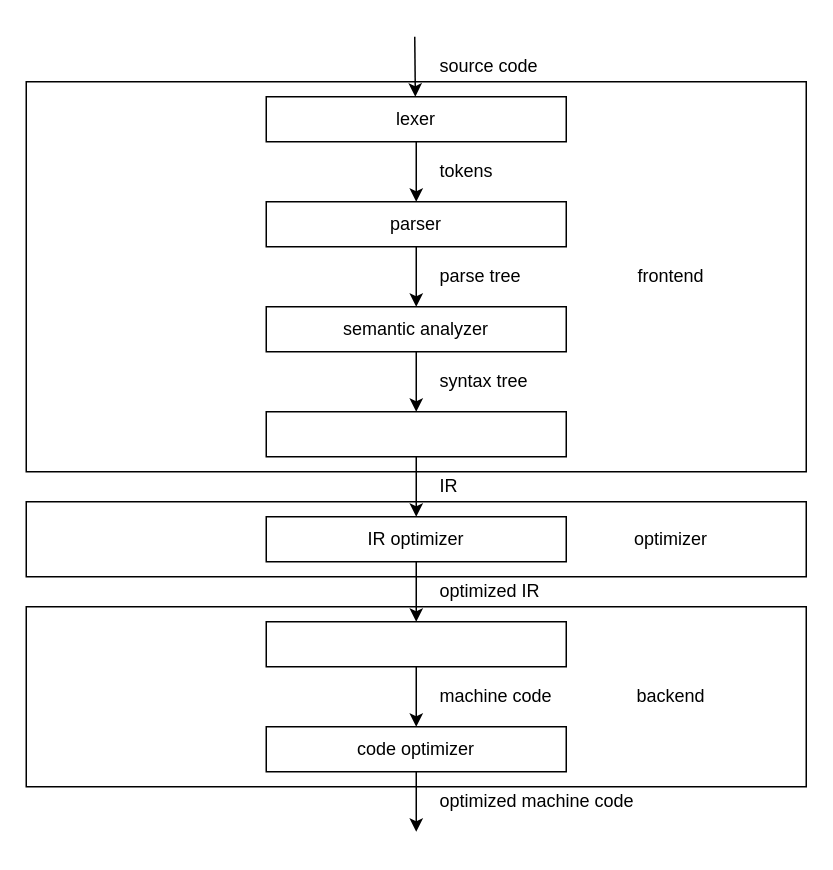
Image size: 833x870. Some labels were removed from this diagram. The box of each missing label's shape, as (x1, y1, x2, y2) in pixels:
code generator: (265, 620, 566, 667)
IR generator: (265, 410, 566, 457)
